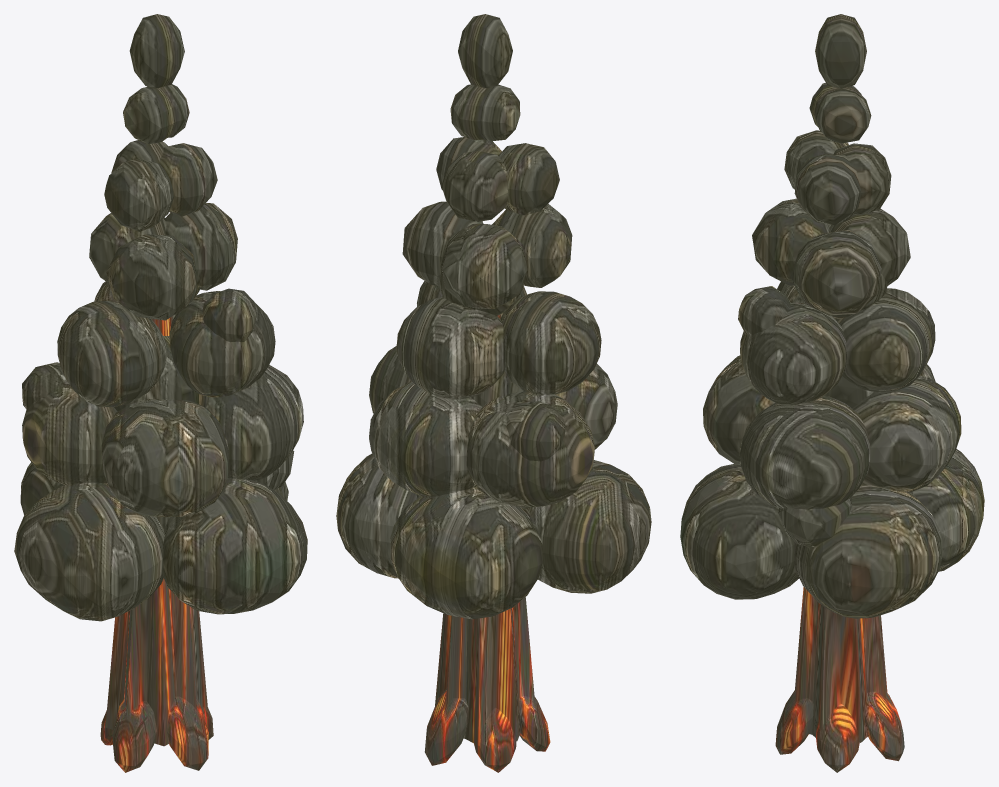
The model's file is pine_tree.glb.
3 views of the same model, side by side, from view 1: azimuth 30°, elevation 25°; view 2: azimuth 150°, elevation 25°; view 3: azimuth 270°, elevation 25° (orthographic).
Parts seen in each view (by area): view 1: fabric, body; view 2: fabric, body; view 3: fabric, body.
Boxes of the visible parts, x1,y1,x2,y2 form: fabric: [14, 14, 307, 621]; body: [100, 316, 213, 772]; fabric: [336, 14, 651, 619]; body: [424, 314, 550, 772]; fabric: [680, 14, 984, 618]; body: [775, 319, 904, 772].
Bounding box in the file's own units: 1.63 × 4.2 × 1.58.
1 material, 1 textured.
